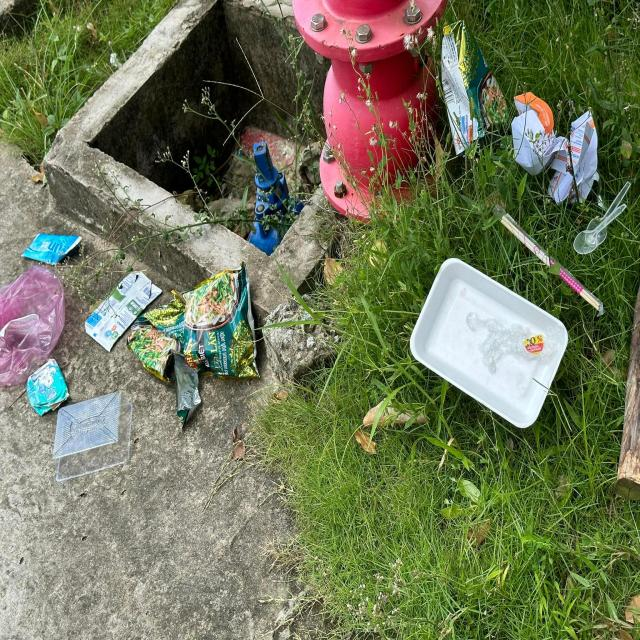bag: (0, 265, 66, 386)
foam box: (410, 258, 570, 430)
milk box: (26, 358, 70, 417)
packet: (84, 270, 162, 354), (21, 234, 82, 266)
paper: (511, 93, 598, 207)
plastic holder: (52, 392, 133, 482)
plastic utensil: (585, 182, 631, 248), (573, 203, 626, 256)
snack package: (127, 261, 260, 434), (441, 19, 509, 158)
